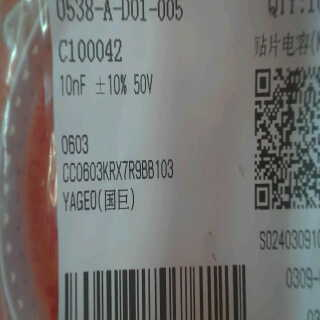10nF: (56, 70, 86, 97)
